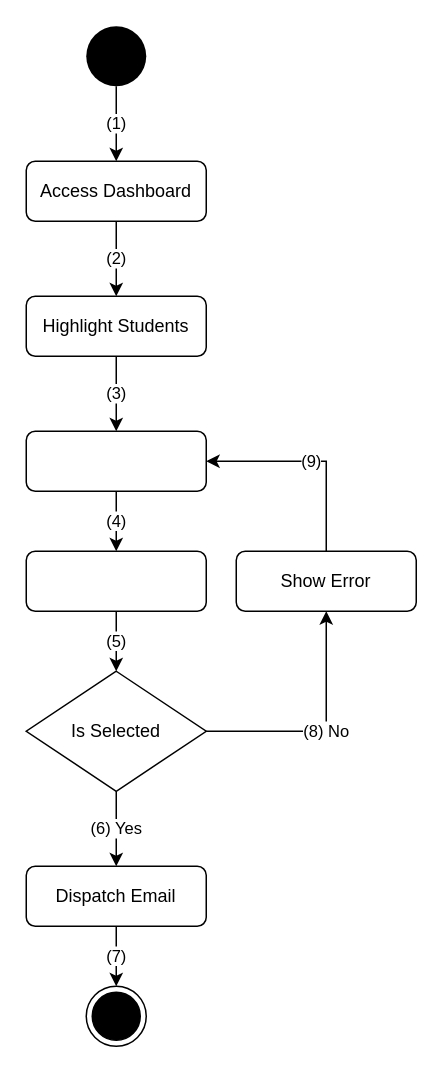
This 443x1073 diagram has some shape labels left out. Each missing label, with the centre of its shape:
"Click Send" belongs at point 115,580.
"Select Students" belongs at point 115,460.
